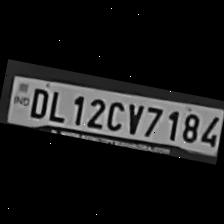1: (64, 90, 88, 126), (158, 106, 182, 142)
2: (82, 94, 108, 130)
4: (197, 112, 222, 148)
7: (138, 103, 164, 139)
8: (176, 110, 203, 144)
C: (102, 97, 127, 132)
D: (24, 83, 51, 120)
L: (44, 87, 70, 124)
V: (120, 99, 145, 135)
